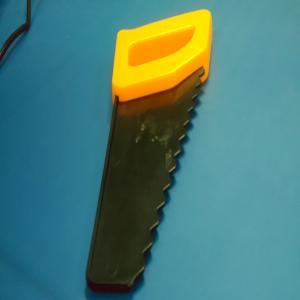serrote: (86, 7, 213, 293)
